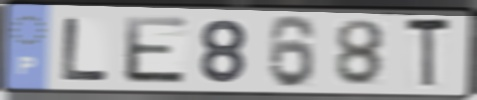6: (266, 13, 317, 91)
8: (331, 18, 389, 87), (199, 17, 249, 85)
E: (122, 14, 190, 86)
L: (60, 15, 113, 83)
T: (403, 16, 454, 92)
